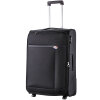luggage: (24, 0, 78, 100)
